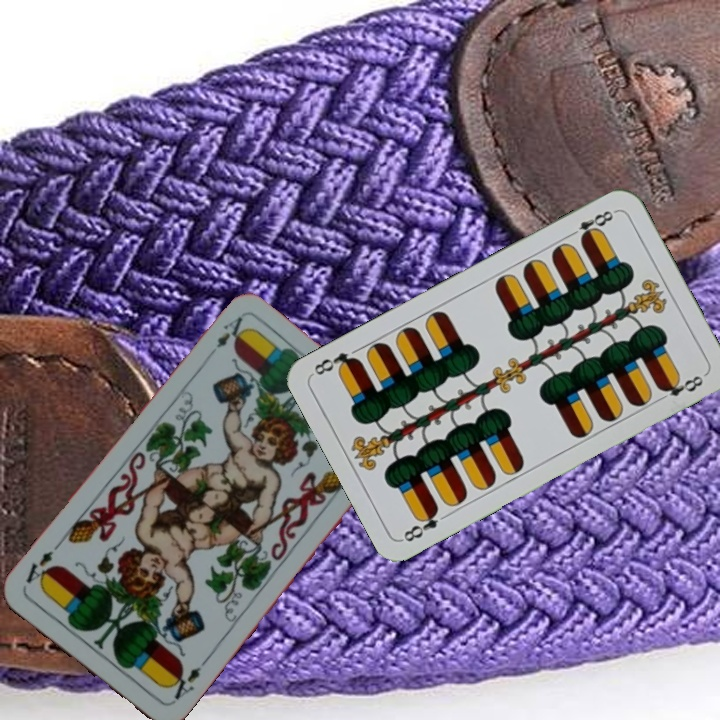E8: (564, 206, 619, 244), (399, 503, 441, 545)
EA: (163, 655, 210, 706), (212, 312, 247, 351)
